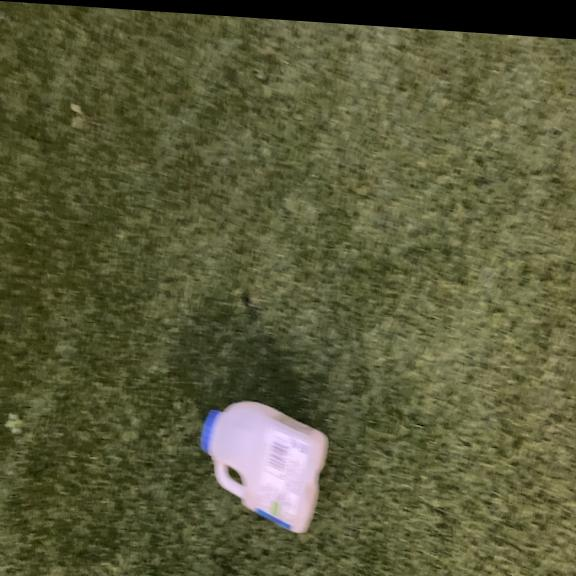Plastik: (197, 391, 335, 537)
